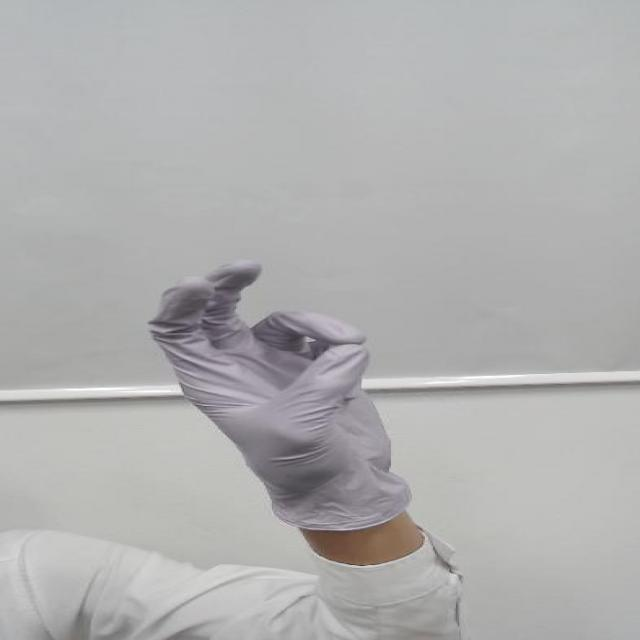with_gloves: (138, 249, 410, 471)
